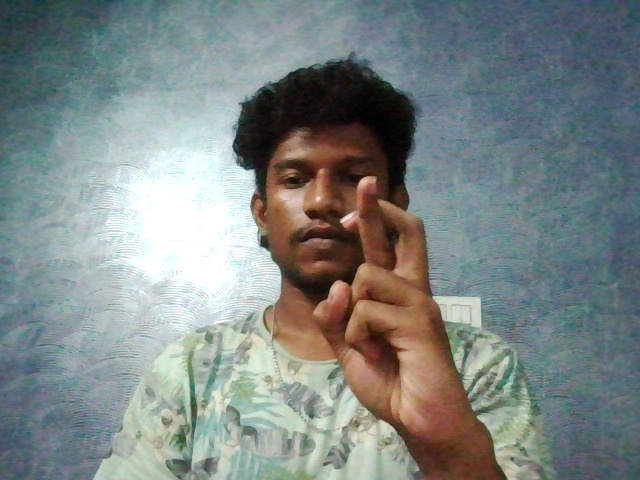hope: (309, 167, 513, 460)
